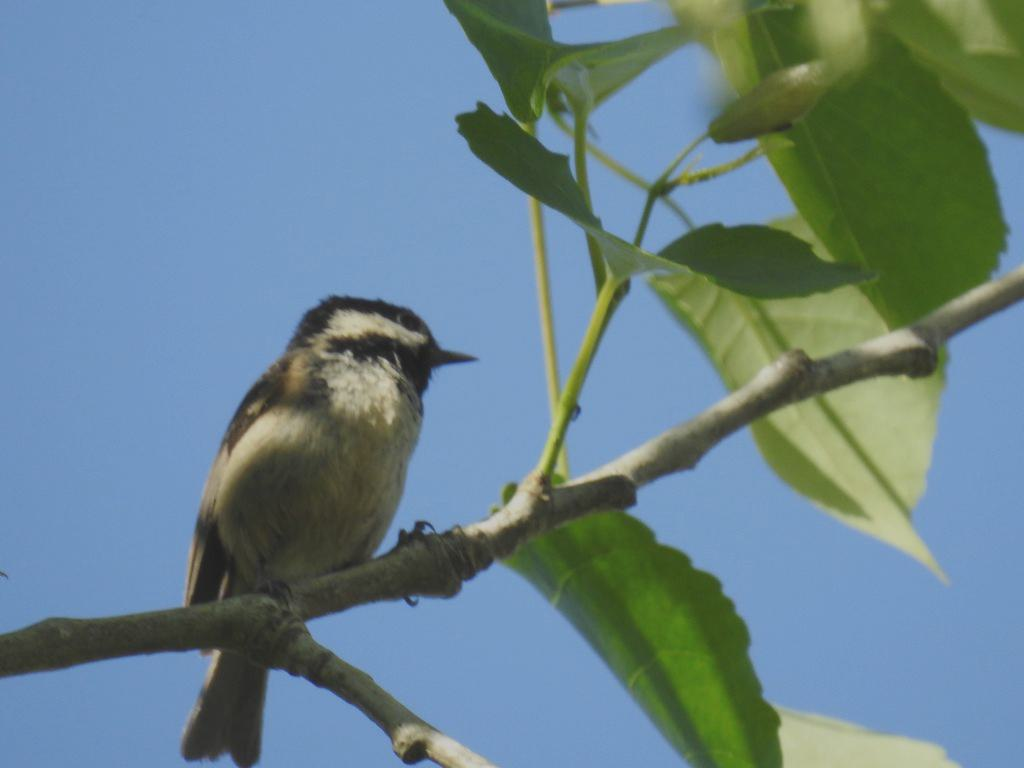PeriparusAter: (178, 294, 484, 768)
